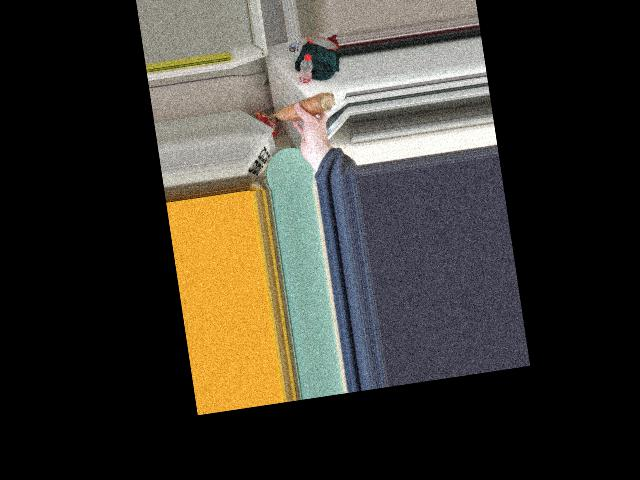sweet_potato: (271, 96, 337, 121)
